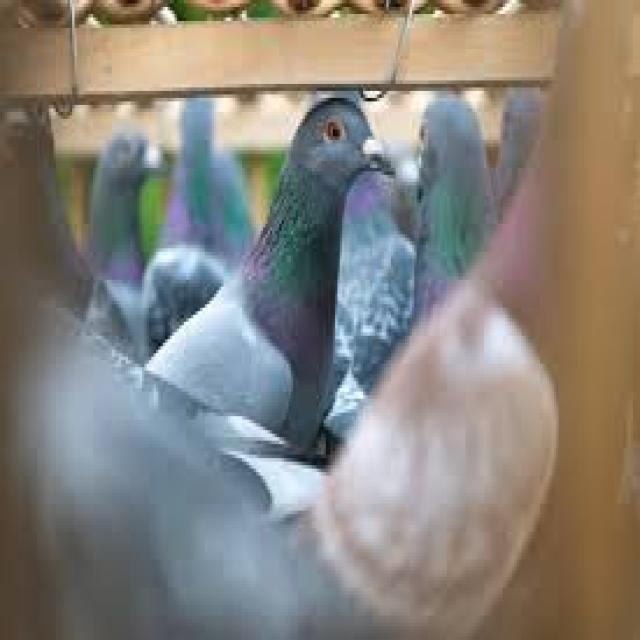pigeon: (138, 83, 372, 427)
